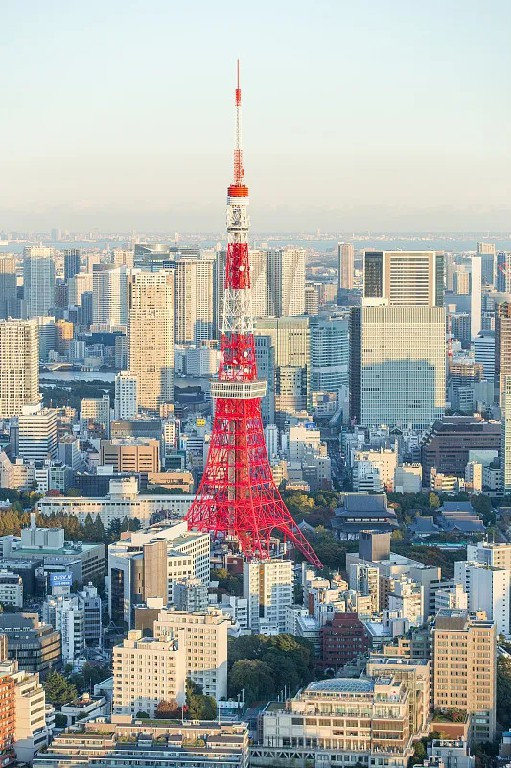Tokyo: (185, 54, 328, 576)
